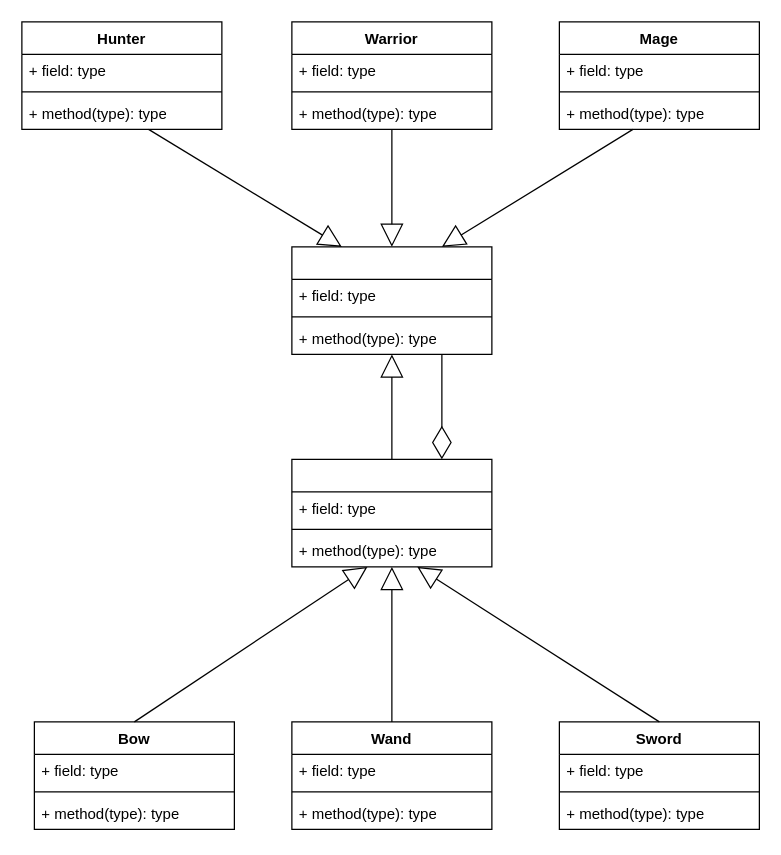
Image size: 781x855. Some labels were removed from this diagram. Here are the shapes that lost their labels. From the top down, the box of each, then its label:
(291, 246, 492, 354): Character
(291, 458, 492, 567): WeaponDecorator
